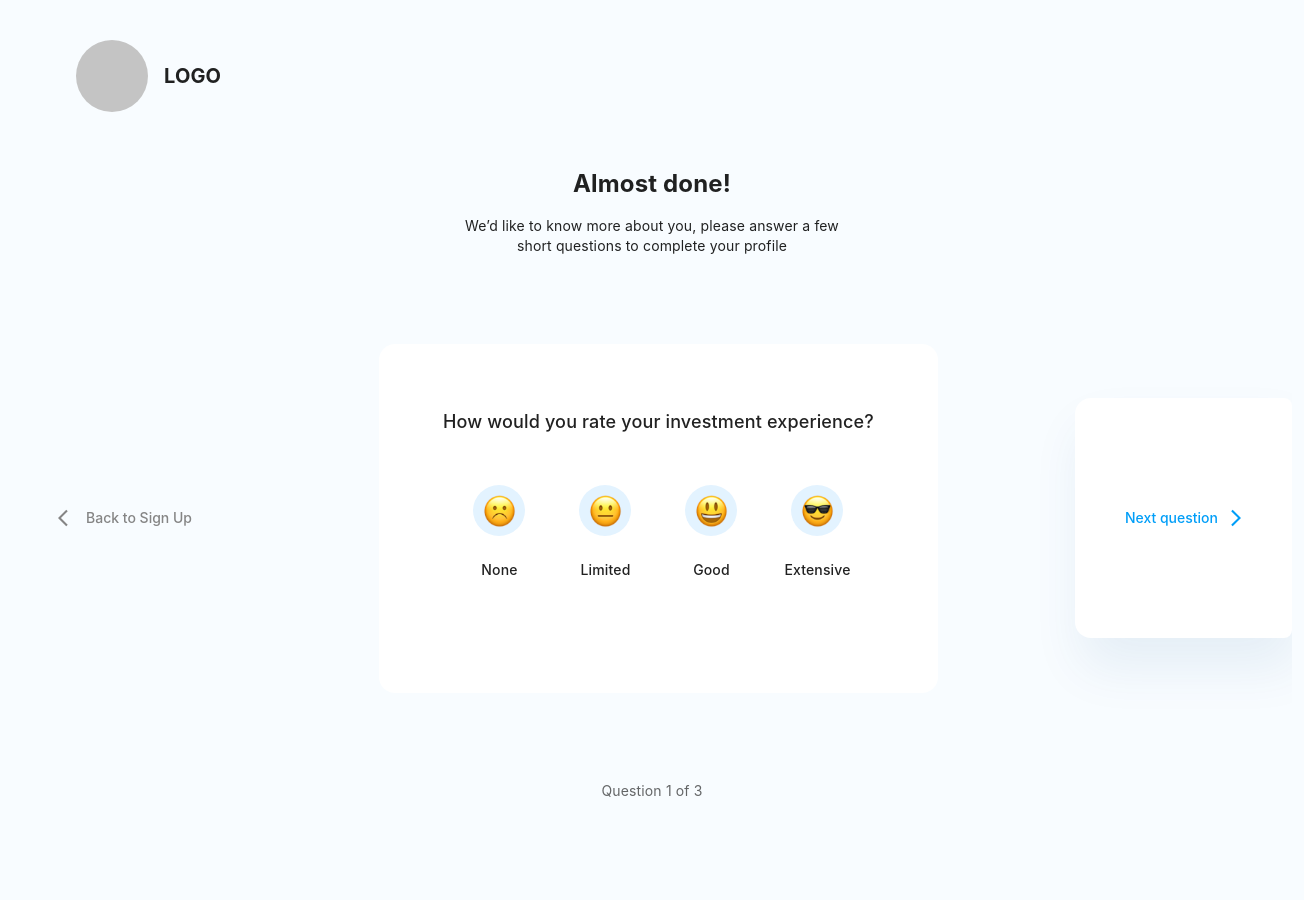
Test: investor/VerificationSelect › Should go to electronic delivery after question 3
The width and height of the screenshot is (1304, 900).
Click the button "Next question". click: (1183, 518)
box: [1075,398,1292,638]
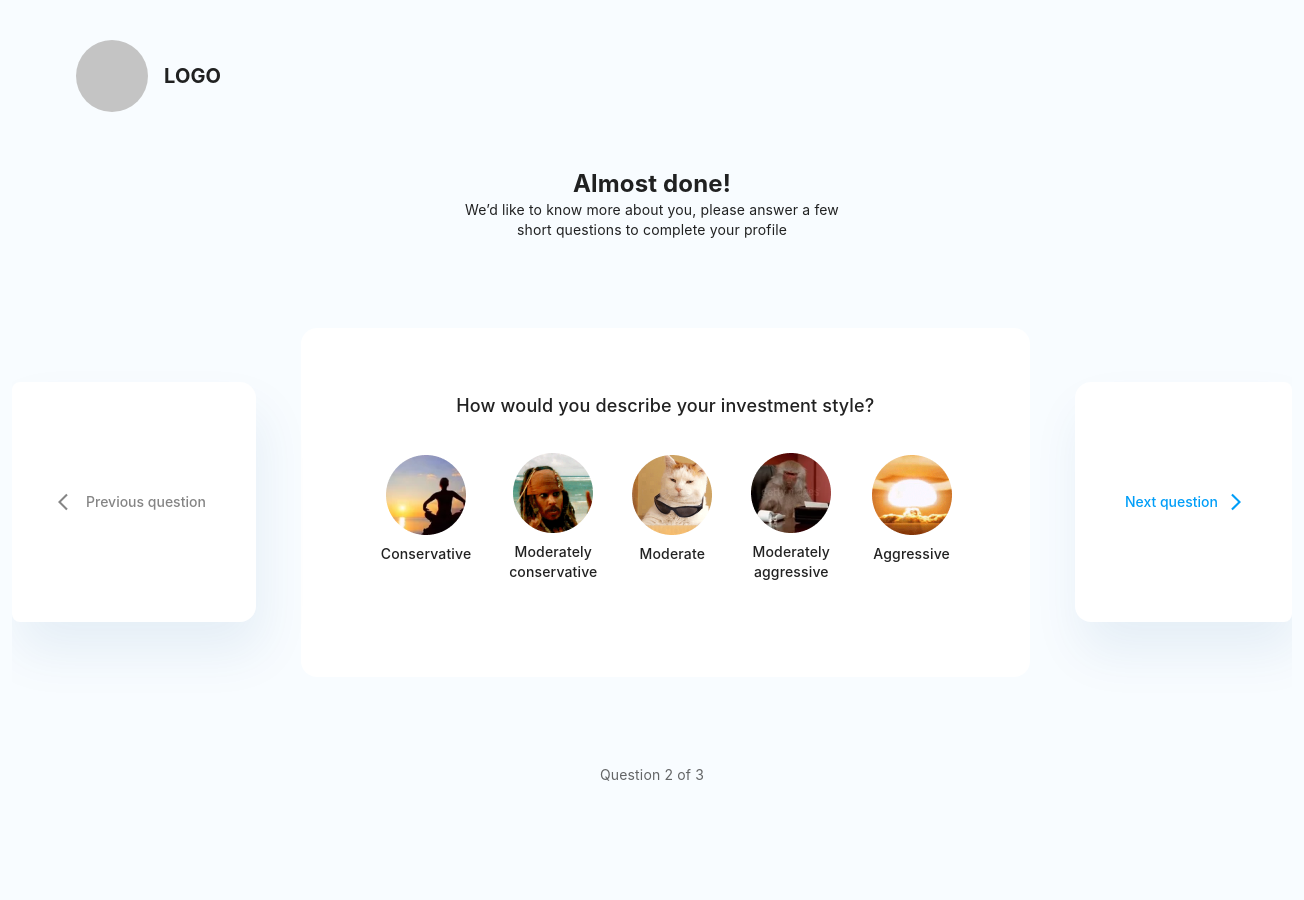
Click the button "Next question". click: (1183, 502)
box: [1075,382,1292,622]
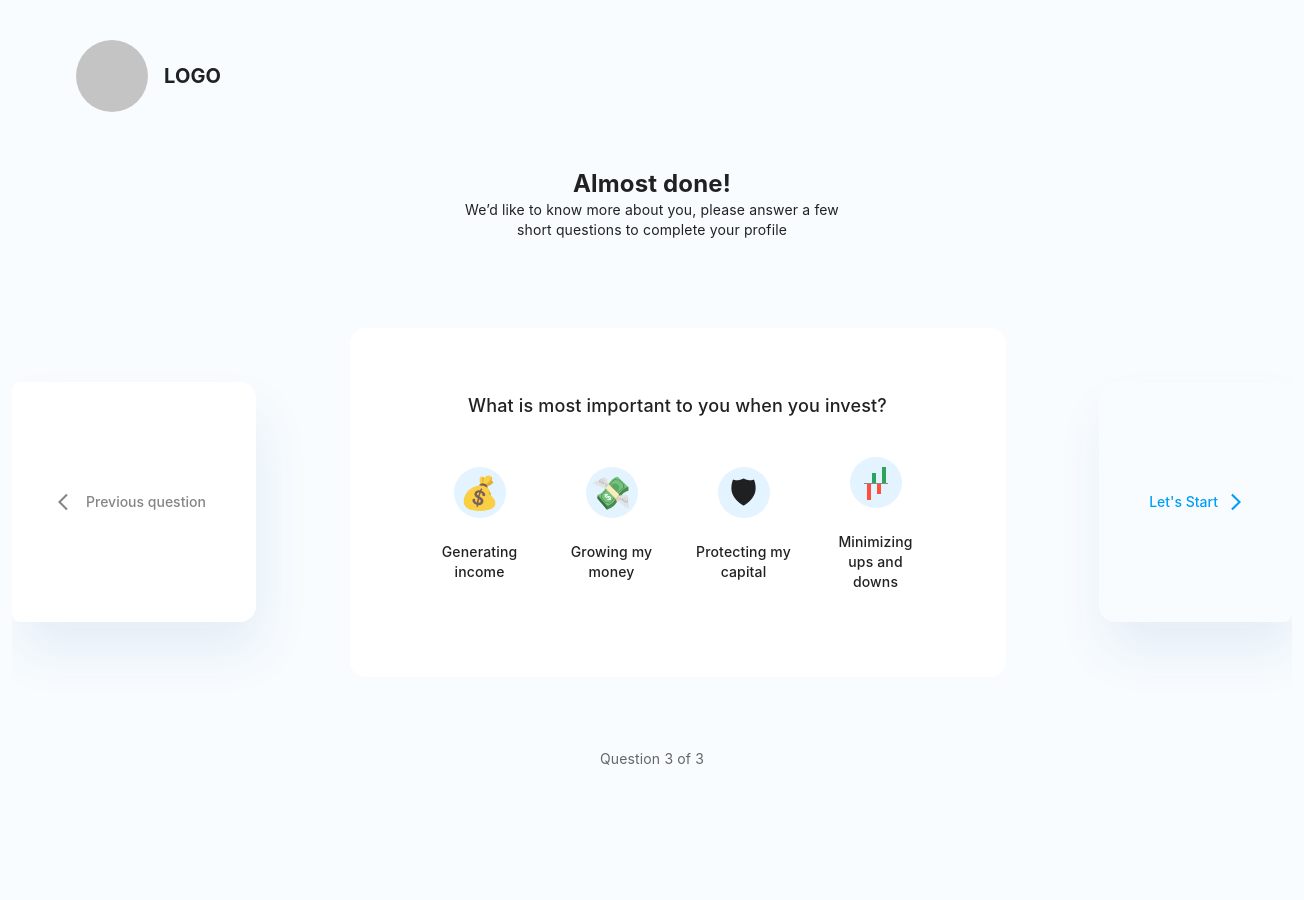
Click the button "Let's Start". click: (1196, 502)
box: [1099,382,1292,622]
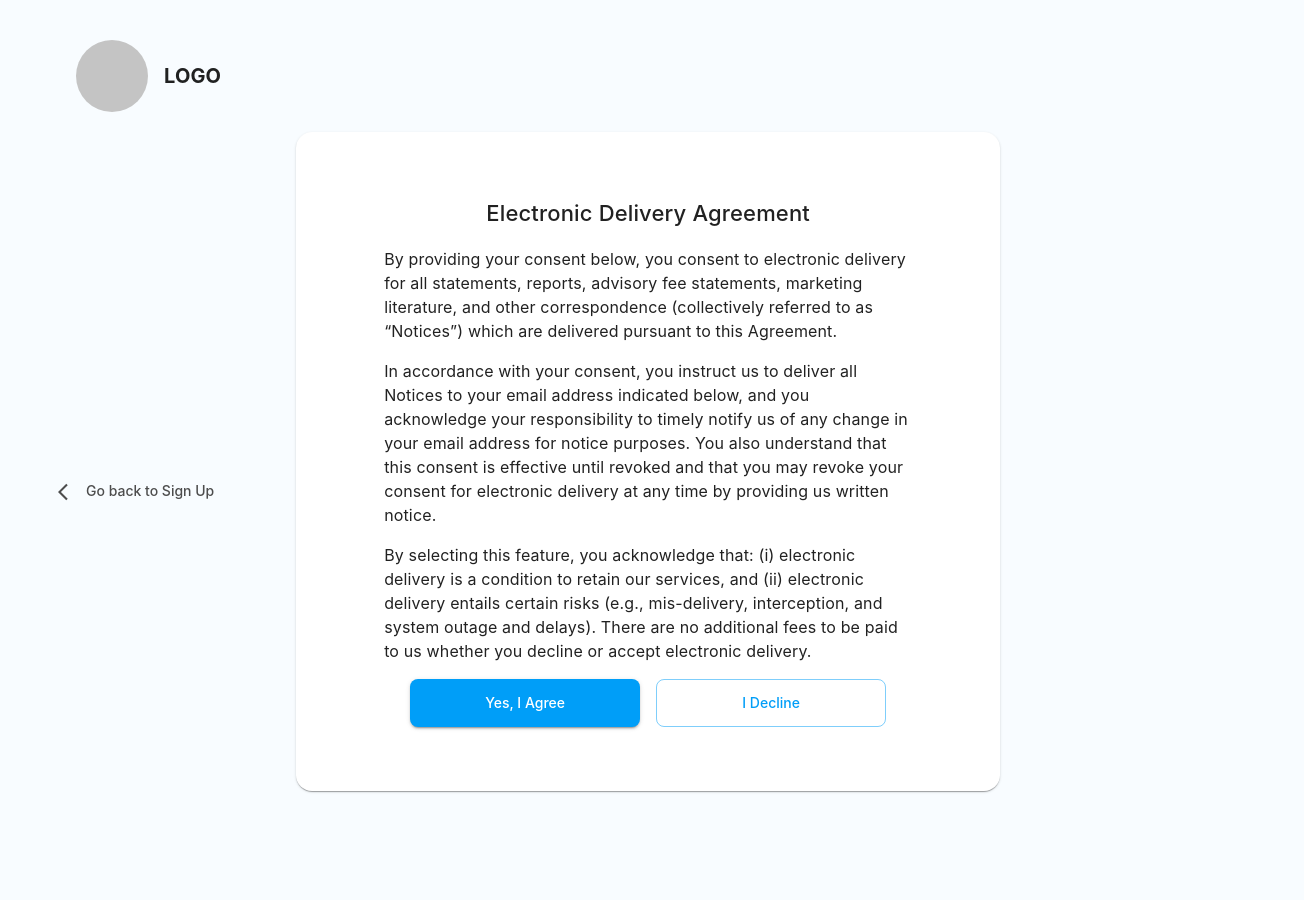
Expected: the heading "Electronic Delivery Agreement" is shown, [486,200,810,226]
